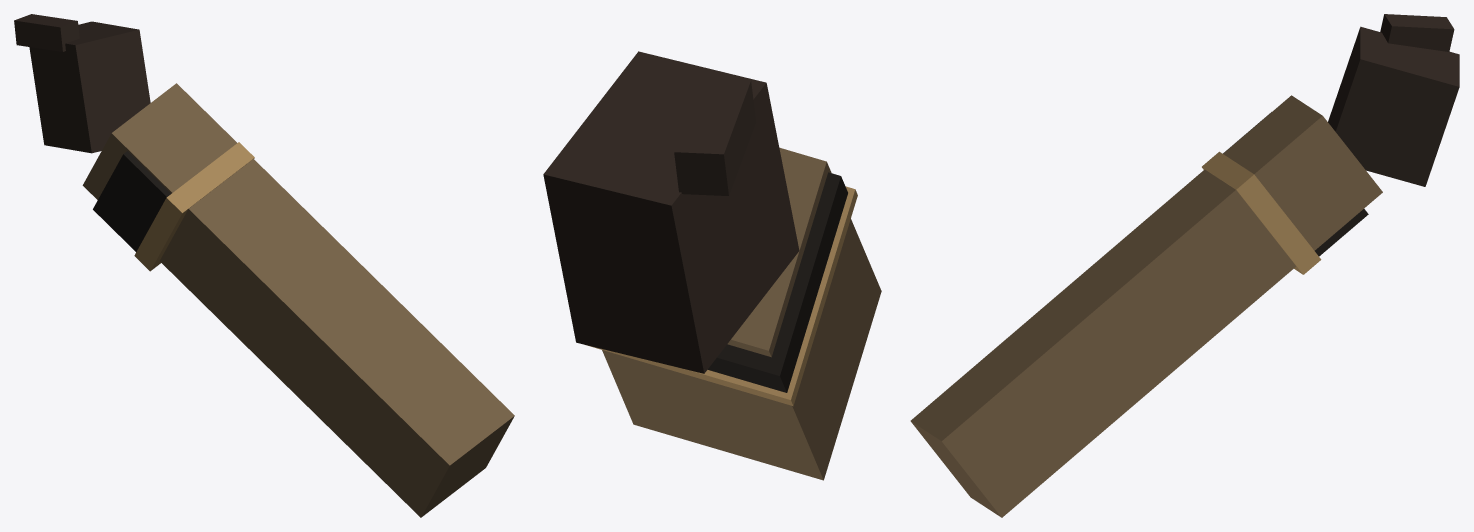
Rendered from BO_SM_Arms_BearR_v001.glb.
3 renders of one model, left to right at view 1: azimuth 30°, elevation 25°; view 2: azimuth 150°, elevation 25°; view 3: azimuth 270°, elevation 25°, orthographic. The views are drawn at different scales.
Visible parts, largest first — view 1: body_004, body_000, body_002, body_003, body_001; view 2: body_000, body_004, body_001, body_002, body_003; view 3: body_004, body_000, body_003, body_001.
Boxes of the visible parts, x1=… form: body_004: x1=82, y1=83, x2=514, y2=517; body_000: x1=29, y1=21, x2=150, y2=153; body_002: x1=93, y1=151, x2=170, y2=251; body_003: x1=134, y1=142, x2=254, y2=271; body_001: x1=14, y1=14, x2=79, y2=51; body_000: x1=543, y1=51, x2=799, y2=373; body_004: x1=602, y1=147, x2=881, y2=480; body_001: x1=674, y1=78, x2=755, y2=195; body_002: x1=707, y1=172, x2=847, y2=392; body_003: x1=587, y1=186, x2=857, y2=406; body_004: x1=910, y1=95, x2=1382, y2=517; body_000: x1=1328, y1=26, x2=1459, y2=186; body_003: x1=1202, y1=151, x2=1321, y2=274; body_001: x1=1380, y1=14, x2=1454, y2=51.
Bounding box in the file's own units: 0.2098 × 0.2984 × 0.3704.
